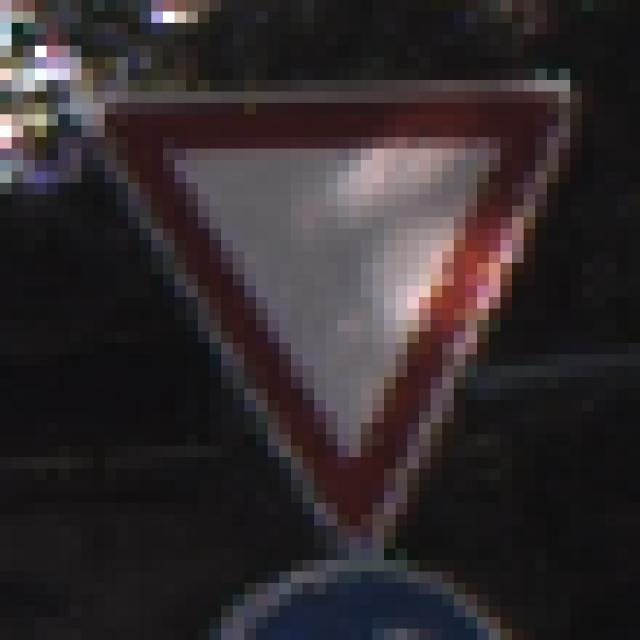Give Way: (59, 69, 583, 584)
